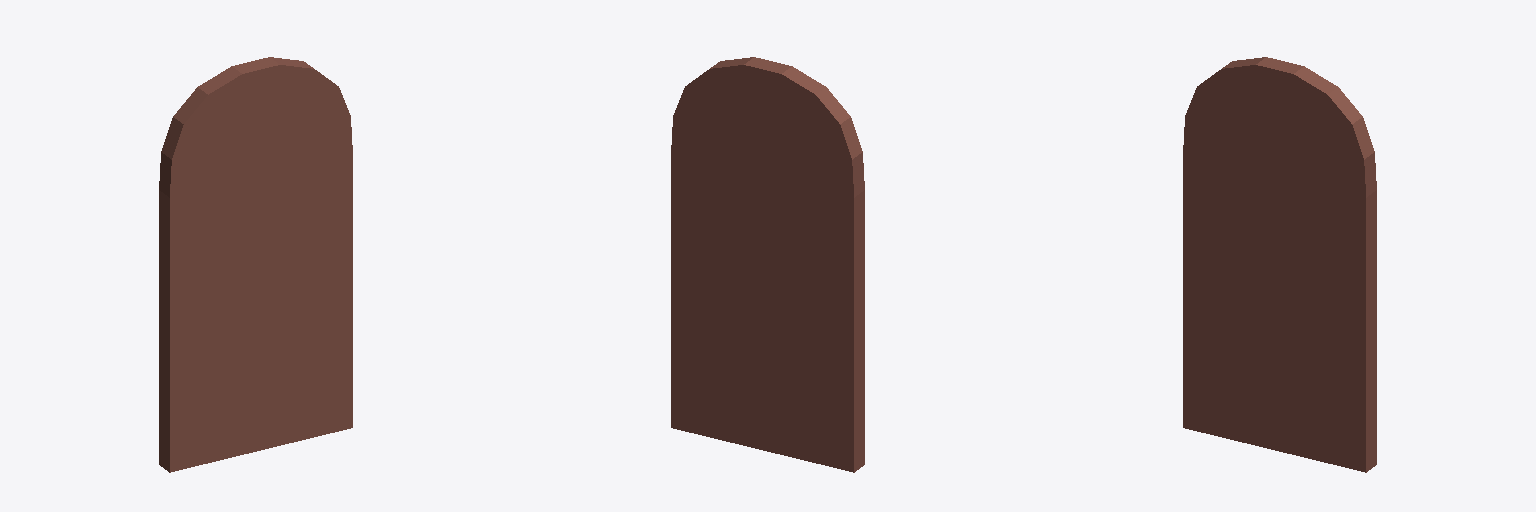
The picture shows the model from 3 angles: view 1: azimuth 30°, elevation 25°; view 2: azimuth 150°, elevation 25°; view 3: azimuth 330°, elevation 25°; orthographic projection.
Visible parts, largest first — view 1: pasted__pCube18 group34; view 2: pasted__pCube18 group34; view 3: pasted__pCube18 group34.
Boxes of the visible parts, x1=… form: pasted__pCube18 group34: x1=159, y1=57, x2=352, y2=472; pasted__pCube18 group34: x1=671, y1=57, x2=864, y2=472; pasted__pCube18 group34: x1=1183, y1=57, x2=1376, y2=472.
Size of the model in its own units: 1.98 by 3.93 by 0.2.
Materials: 1 (1 with a texture image).